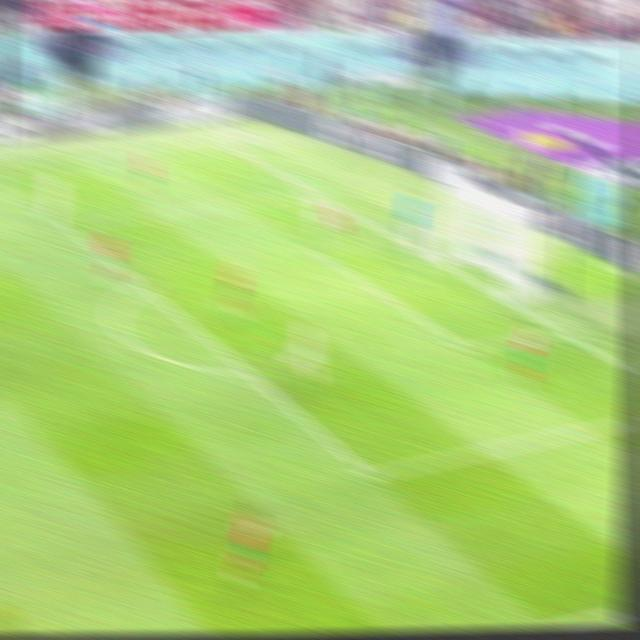bigarea_bottom_inner: (352, 457, 384, 490)
bigarea_top_inner: (53, 212, 80, 238)
bigarea_top_outter: (300, 183, 327, 204)
bottom_arc_area_intersection: (233, 359, 262, 386)
corner: (217, 138, 245, 157)
smallarea_bottom_inner: (451, 330, 483, 363)
smallarea_bottom_outter: (545, 318, 573, 344)
smallarea_top_inner: (299, 236, 326, 262)
smallarea_top_outter: (379, 225, 405, 246)
top_arc_area_intersection: (128, 272, 156, 298)
